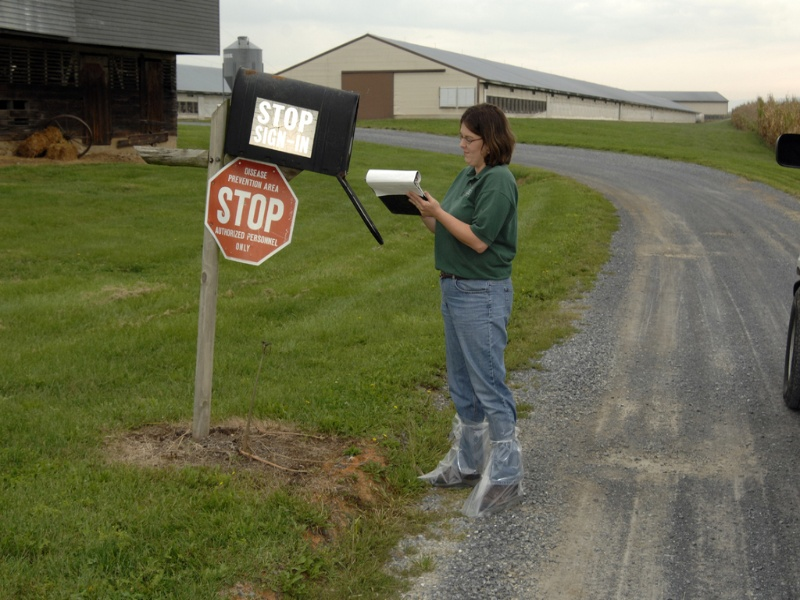stop: (204, 158, 305, 266)
